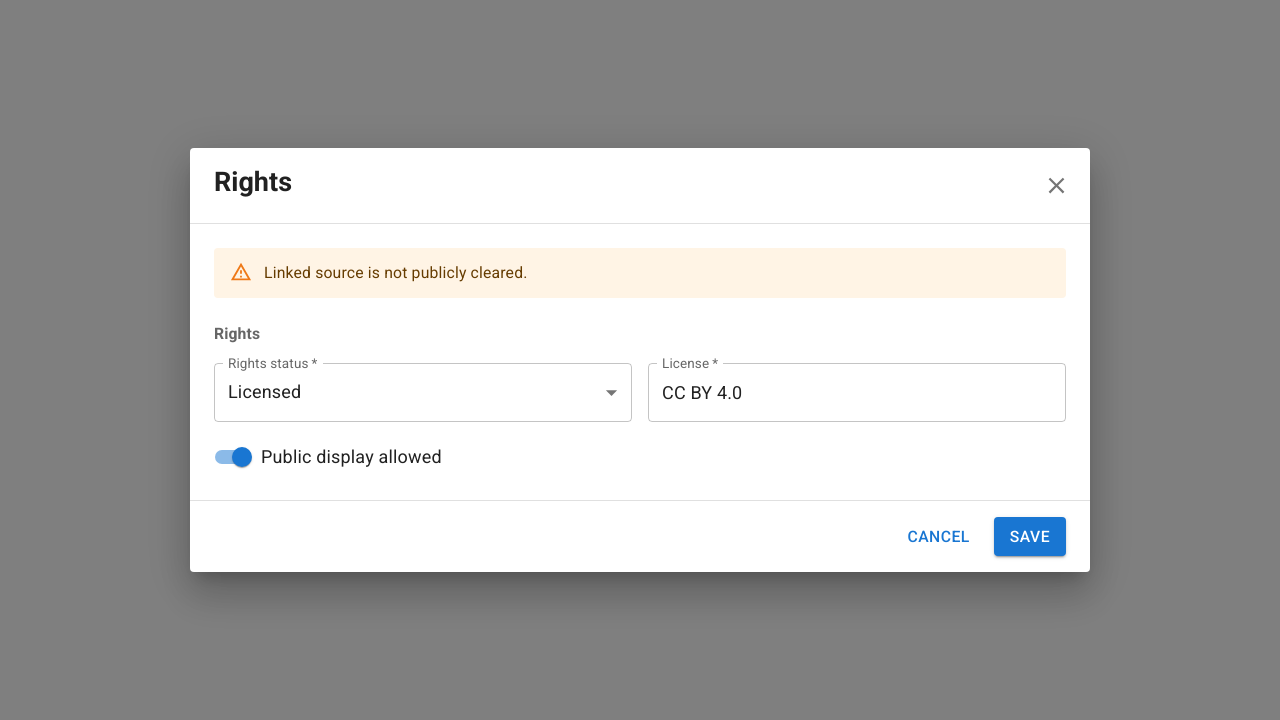
Scenario: rights controls › forces public display off for restricted rights and displays linked-source warnings
Expected: the text "Linked source is not publicly cleared." is shown, [264,263,528,282]
Press the mouse on the dropdown named "Rights status" at (265,392), box [228,381,301,402]
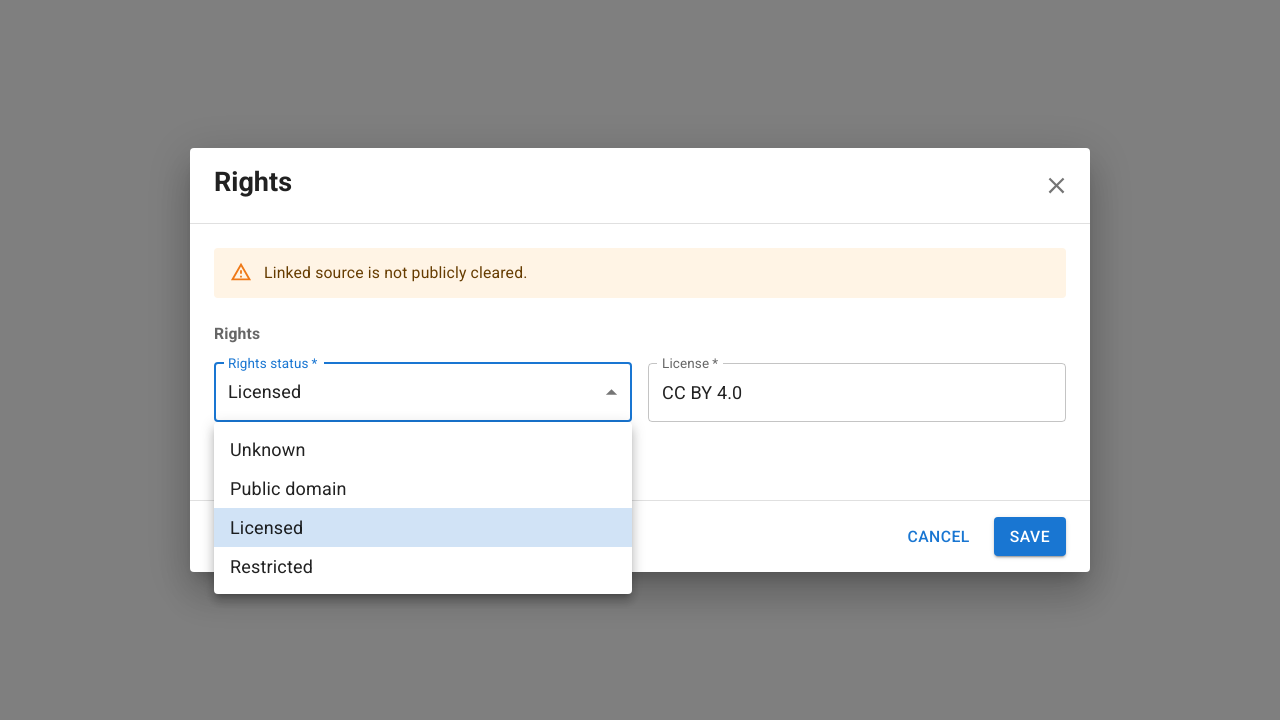
Click the option "Restricted". click: (272,566)
box: [230,556,313,577]
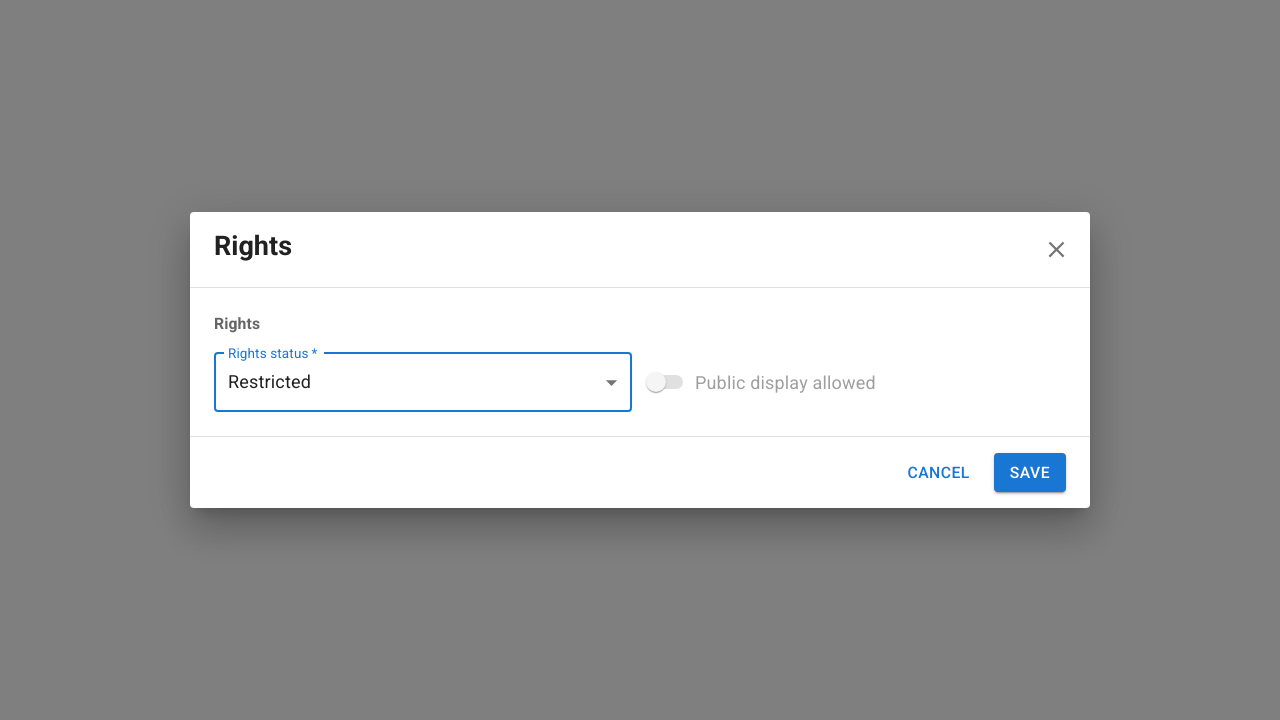
Expected: the switch labelled "Public display allowed" is disabled, [646,372,876,393]
Expected: the switch labelled "Public display allowed" is not checked, [646,372,876,393]
Expected: the text "Linked source is not publicly cleared." is gone
